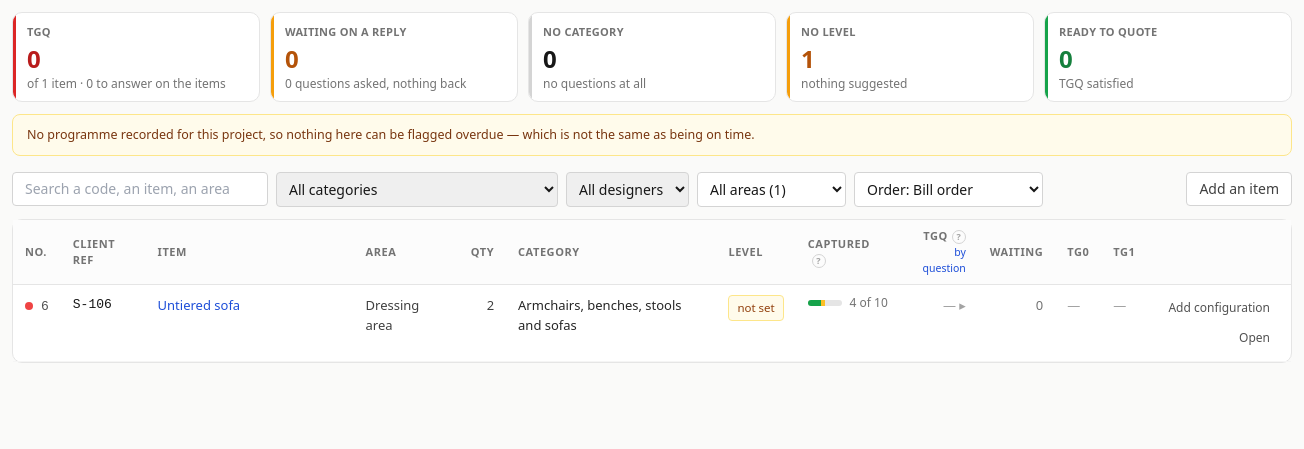
it: a levelless record on the fallback half of TGQ (row d2) › says what the level is needed FOR, not merely that it is missing
Click the button "— ▸": (954, 304) top-left (943, 294), bottom-right (966, 314)
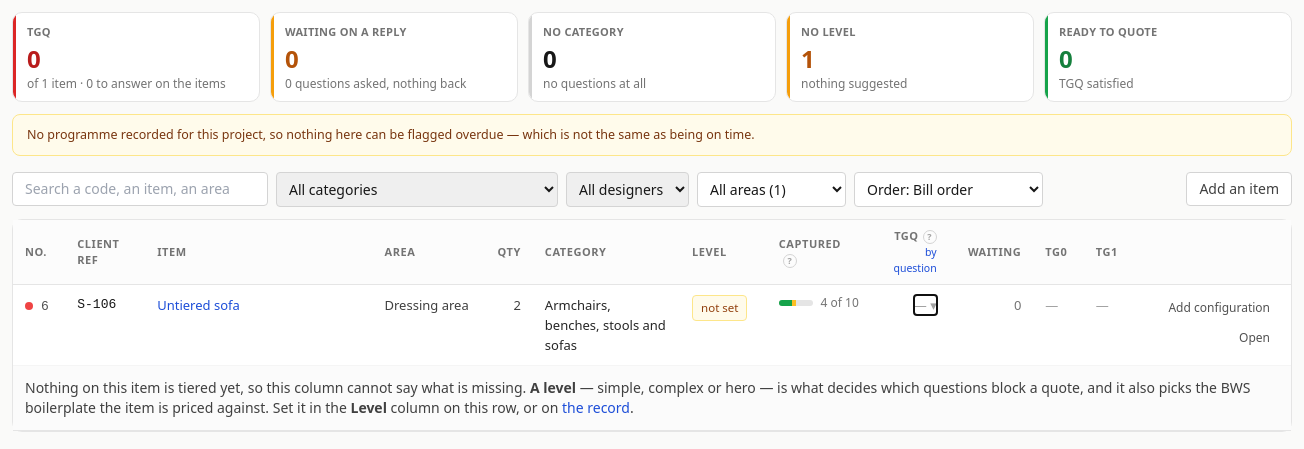
expect the text "not set" is shown: met, box top-left (692, 294), bottom-right (748, 320)
expect the text "boilerplate" is shown: met, box top-left (25, 378), bottom-right (1250, 416)
